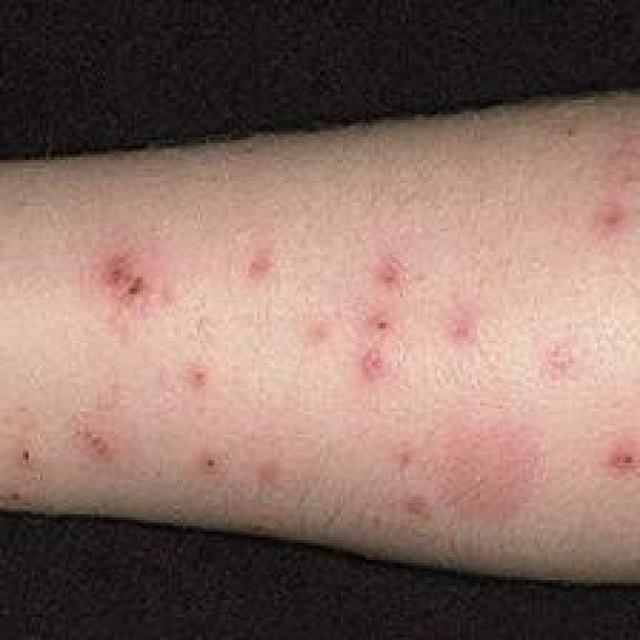others: (0, 155, 640, 564)
